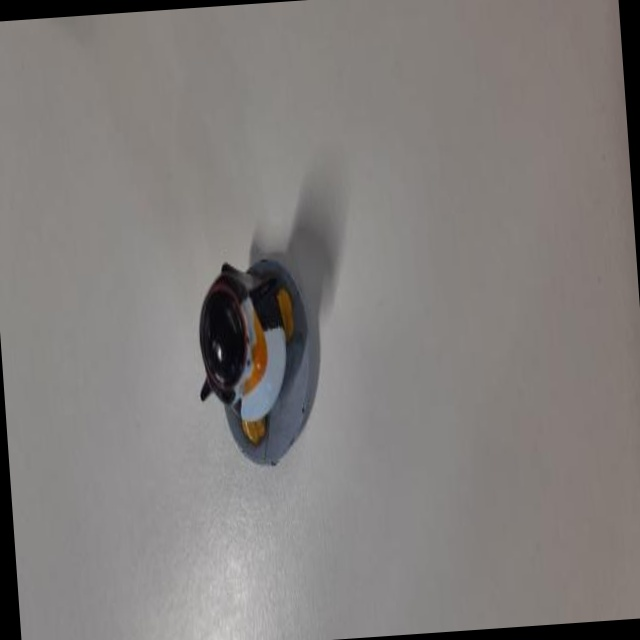Penguin: (183, 230, 335, 499)
